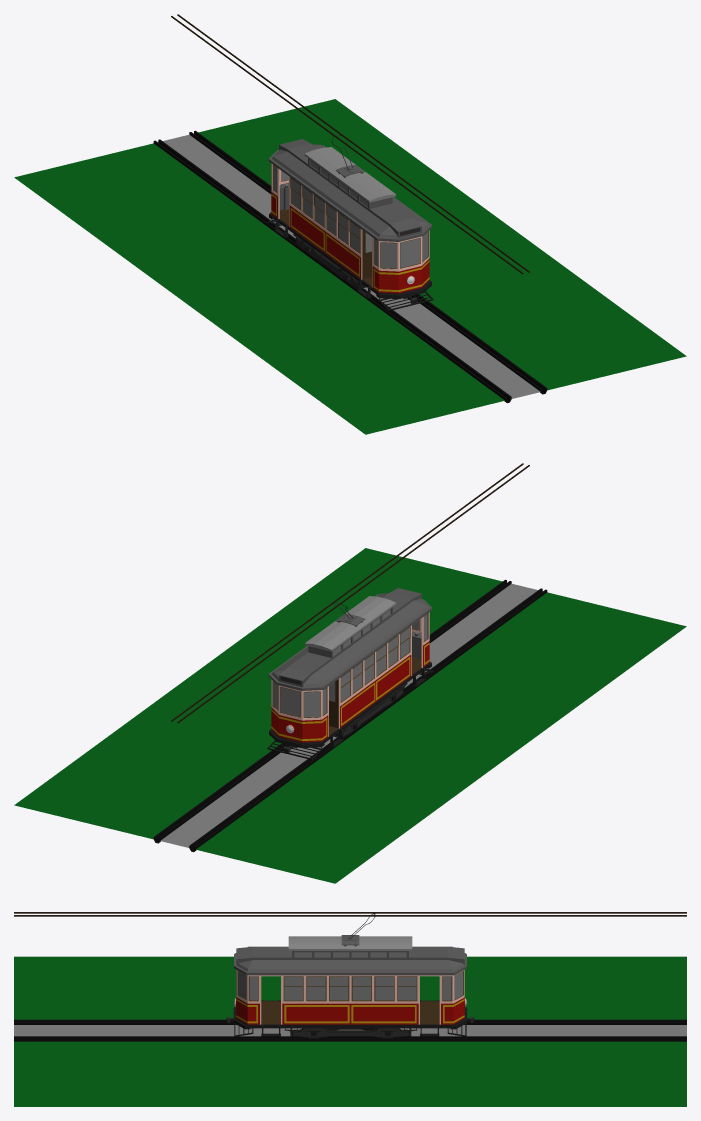
The model's file is tram.fbx.
The picture shows the model from 3 angles, top to bottom: view 1: azimuth 30°, elevation 25°; view 2: azimuth 150°, elevation 25°; view 3: azimuth 270°, elevation 25°; orthographic projection. The views are drawn at different scales.
Parts seen in each view (by area): view 1: Plane001, roof, main, ground; view 2: Plane001, roof, main, ground; view 3: Plane001, roof, main, ground.
Part boxes in pixels (left/top/right/bottom): Plane001: left=14, top=14, right=686, bottom=434; roof: left=268, top=139, right=432, bottom=241; main: left=271, top=163, right=429, bottom=293; ground: left=267, top=209, right=433, bottom=310; Plane001: left=14, top=463, right=686, bottom=883; roof: left=268, top=588, right=432, bottom=690; main: left=271, top=612, right=429, bottom=742; ground: left=267, top=657, right=433, bottom=759; Plane001: left=14, top=912, right=686, bottom=1106; roof: left=234, top=935, right=466, bottom=975; main: left=234, top=970, right=466, bottom=1024; ground: left=226, top=1000, right=474, bottom=1037.
Size of the model in its own units: 140 by 52.56 by 265.
Materials: 5 (1 with a texture image).
